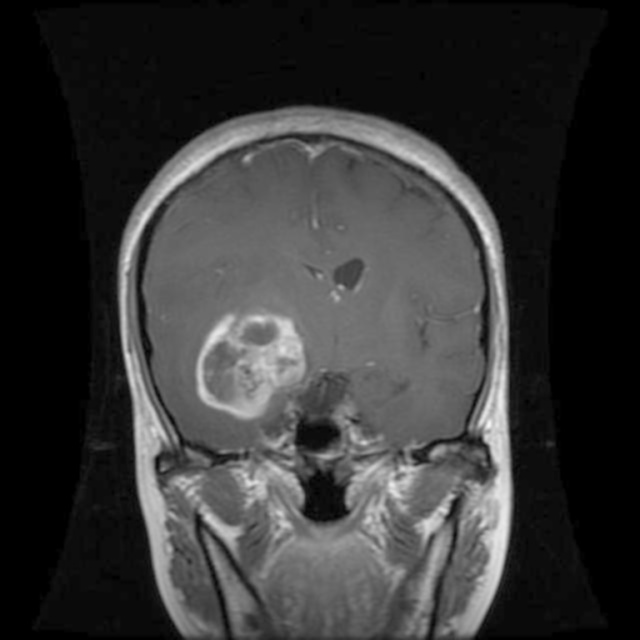pituitary tumor: (195, 324, 290, 415)
